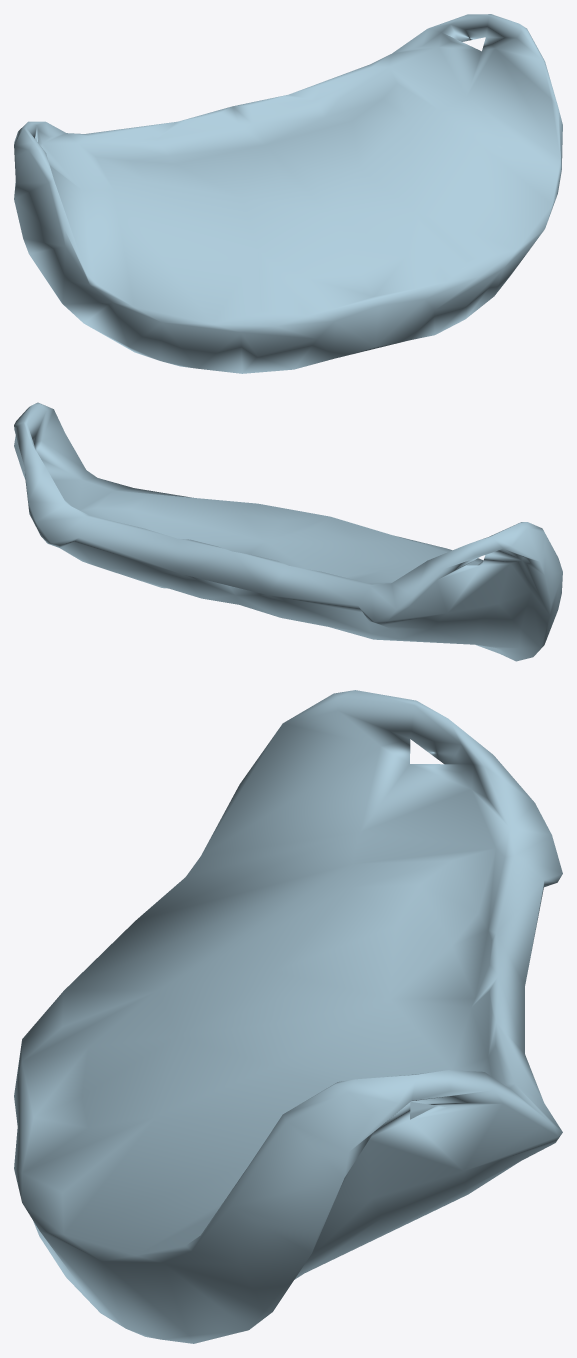
File: articulacoes-intervertebral-disc-c6-c7.glb
3 renders of one model, top to bottom at view 1: azimuth 30°, elevation 25°; view 2: azimuth 150°, elevation 25°; view 3: azimuth 270°, elevation 25°, orthographic. The views are drawn at different scales.
Parts seen in each view (by area): view 1: Intervertebral disc C6-C7; view 2: Intervertebral disc C6-C7; view 3: Intervertebral disc C6-C7.
Boxes of the visible parts, x1=… form: Intervertebral disc C6-C7: x1=14, y1=14, x2=562, y2=373; Intervertebral disc C6-C7: x1=14, y1=402, x2=562, y2=661; Intervertebral disc C6-C7: x1=14, y1=690, x2=562, y2=1343.
Size of the model in its own units: 0.0303 by 0.0113 by 0.0166.
